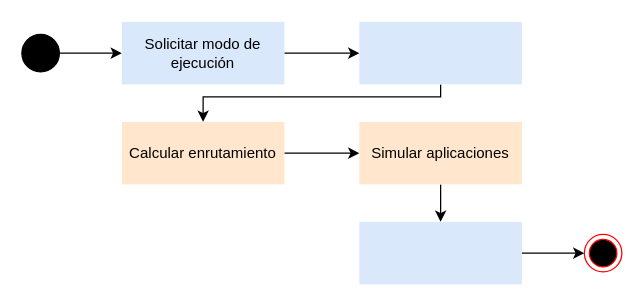
Some shapes in this 644 by 305 pixel diagram are drawn without their labels. The shapes that lost their labels are listed below. From the top down, each one's centre as x and y in pixels, then its label:
At (440,52): "Validar configuración".
At (440,252): "Generar informe de resultados".
